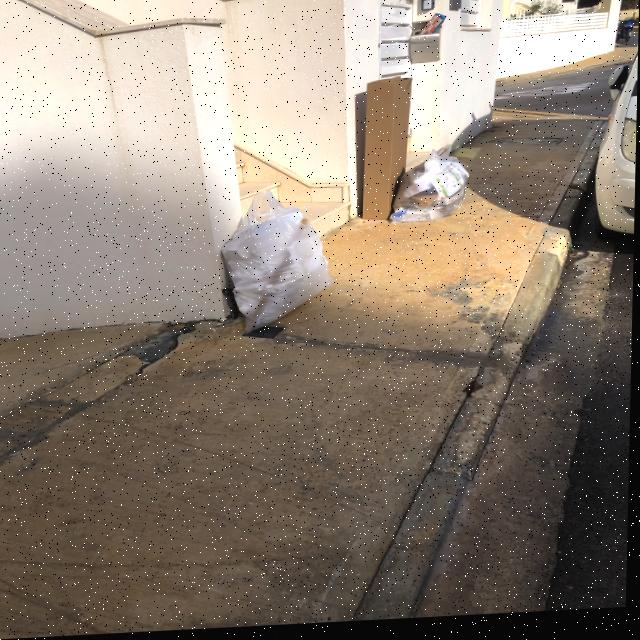Organic Waste -White Bag-: (223, 194, 333, 333), (392, 155, 473, 230)
Other: (358, 81, 414, 227)
